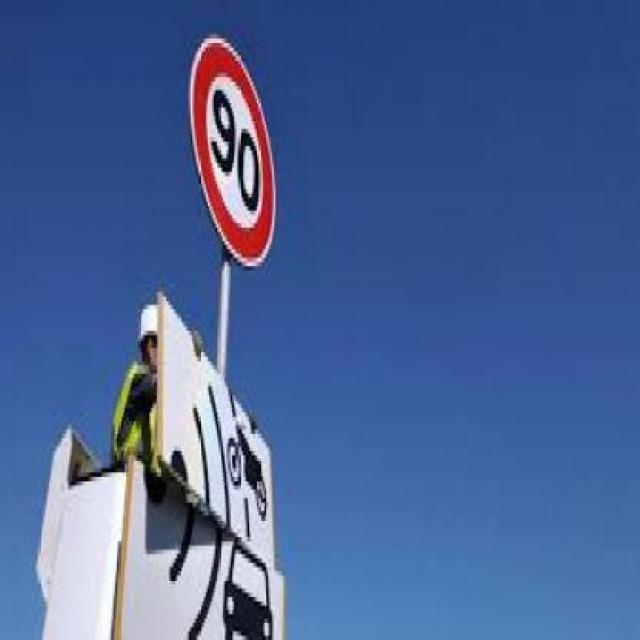Ograniczenie predkosci do 90: (195, 38, 276, 264)
